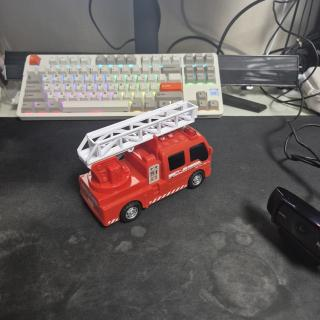Fire_truck: (77, 101, 212, 226)
